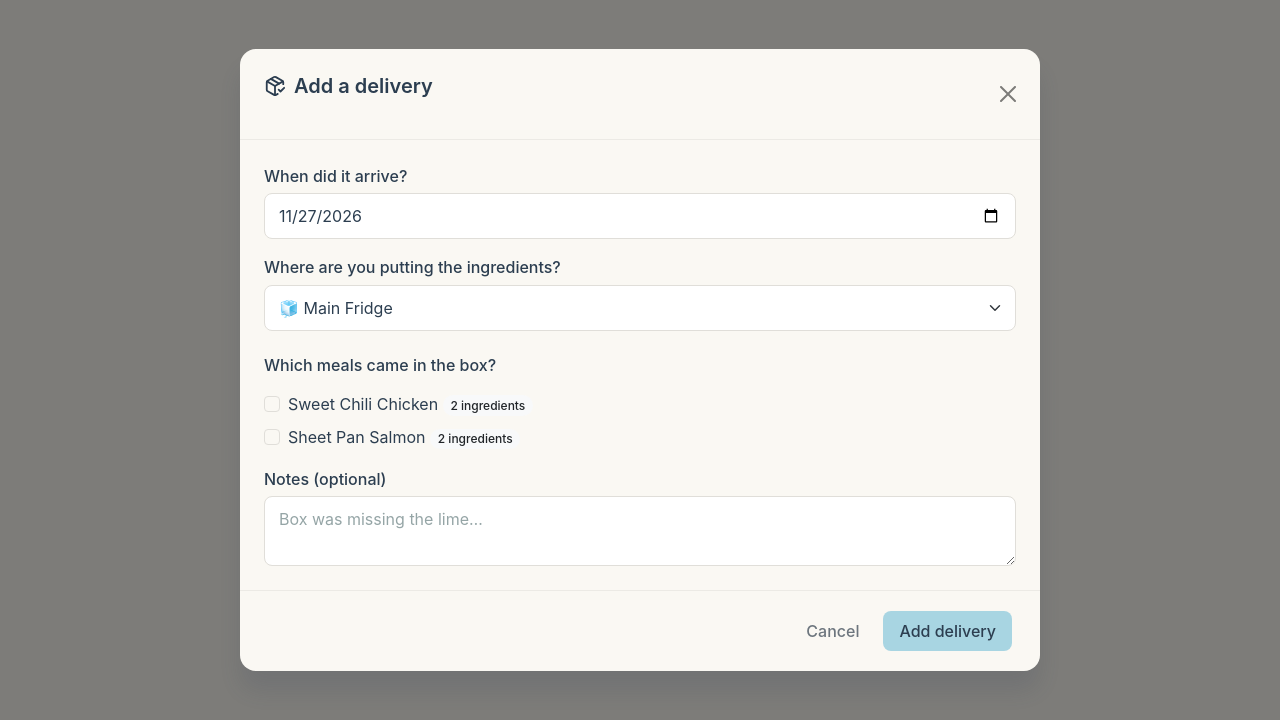
Test: previews exactly what logging the box will do
This screenshot has width=1280, height=720.
Click the checkbox labelled "Sweet Chili Chicken 2 ingredients". click: (272, 404)
box: [264,396,280,412]
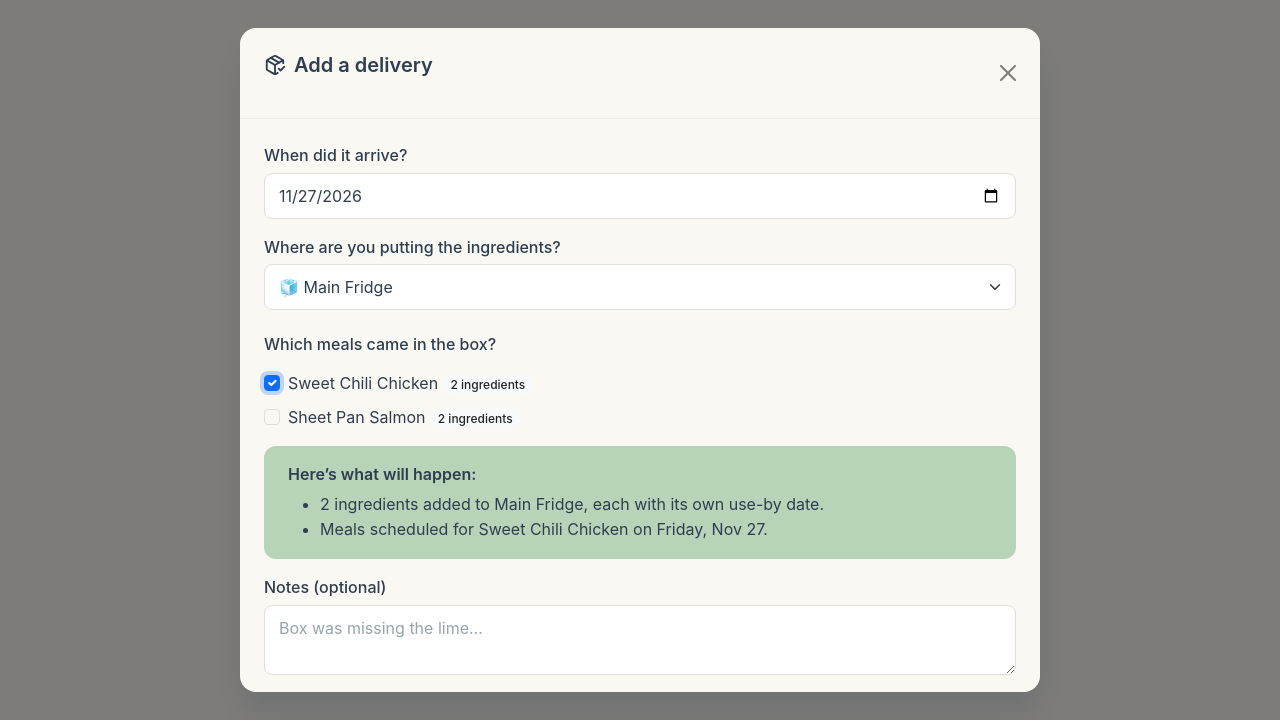
Result: the text "Here’s what will happen:" is shown at [288,464,476,484]
Result: the list item "2 ingredients added to Main Fridge" is shown at [320,494,824,514]
Result: the list item "Meals scheduled for Sweet Chili Chicken on Friday, Nov 27." is shown at [320,519,768,539]
